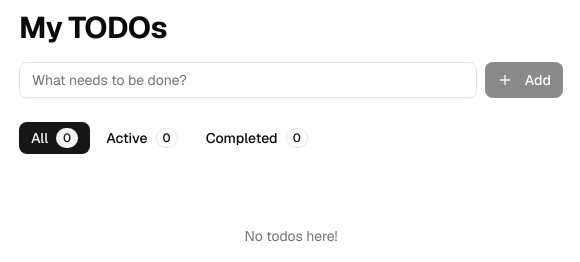
Test: TodoPage — TODO 追加 › 入力して Add を押すとリストに追加される
Expected: the text "No todos here!" is shown, [244,227,338,245]
Type "新しいタスク" into the field with placeholder "What needs to be done?" at point(248, 80), box [19,62,477,98]
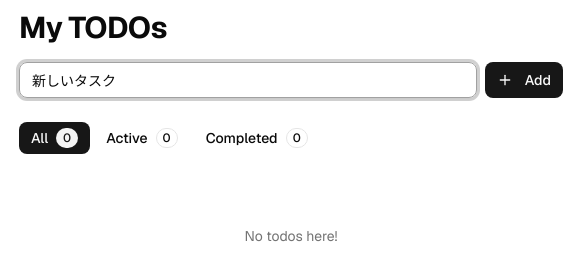
Click the button "Add" at point(524, 80), box [485,62,563,98]
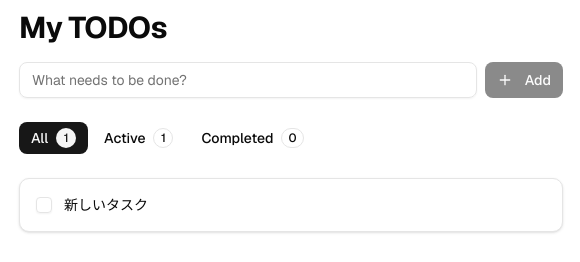
Expected: the text "新しいタスク" is shown, [64,196,148,214]
